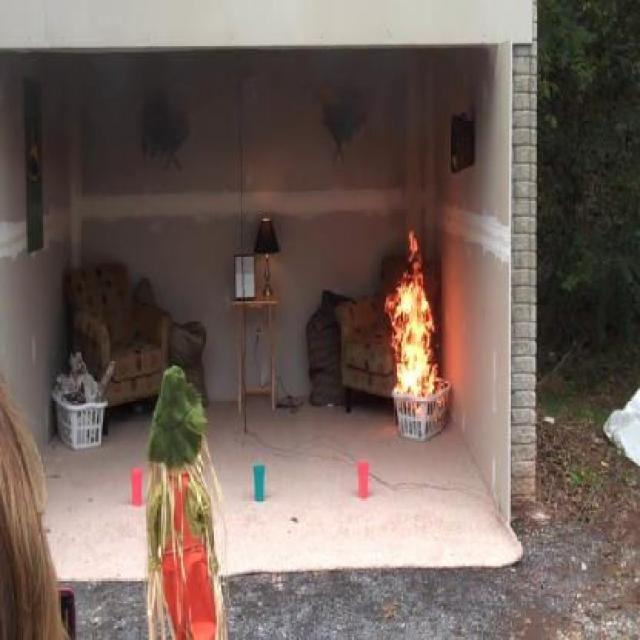fire: (388, 232, 468, 466)
